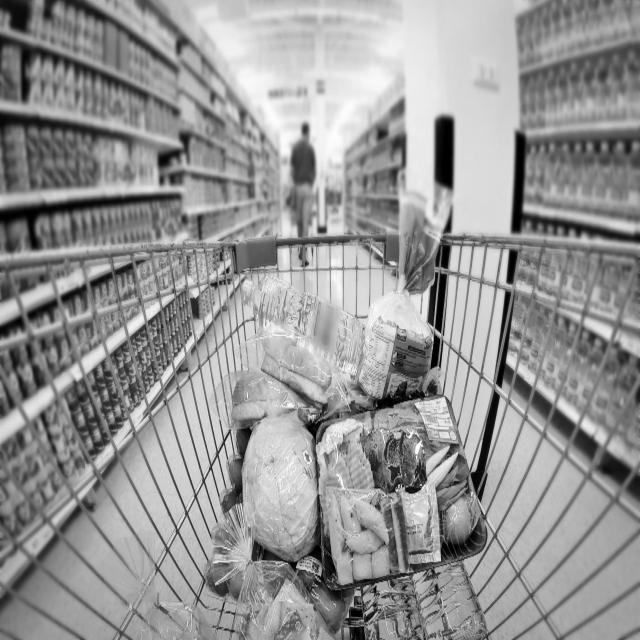banh mi: (367, 185, 444, 395), (252, 570, 336, 640)
bap cai: (244, 408, 320, 557)
dau: (237, 262, 365, 372)
tao: (266, 556, 350, 634)
